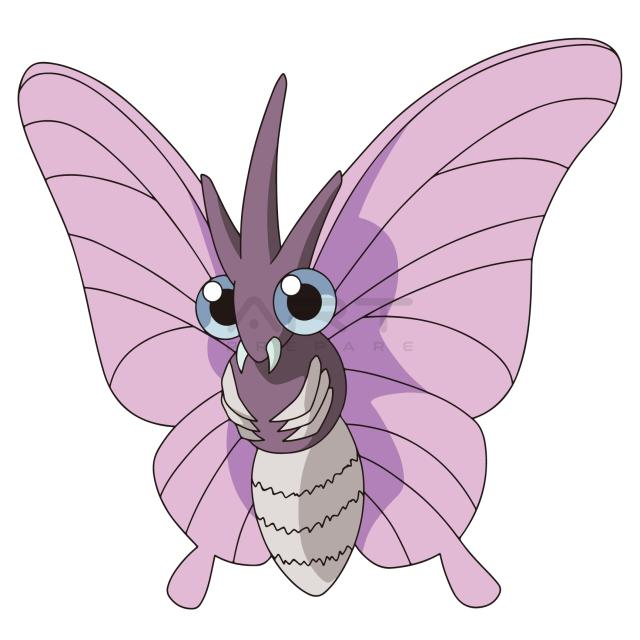Venomoth: (132, 69, 489, 562)
